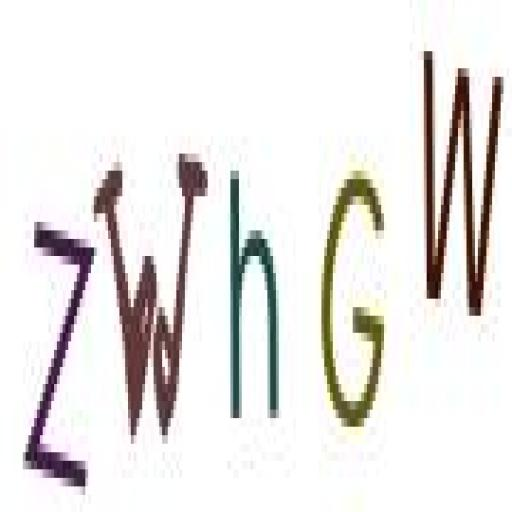G: (316, 152, 392, 436)
W: (93, 146, 213, 452), (419, 29, 506, 323)
Z: (21, 194, 100, 508)
h: (225, 154, 281, 438)
